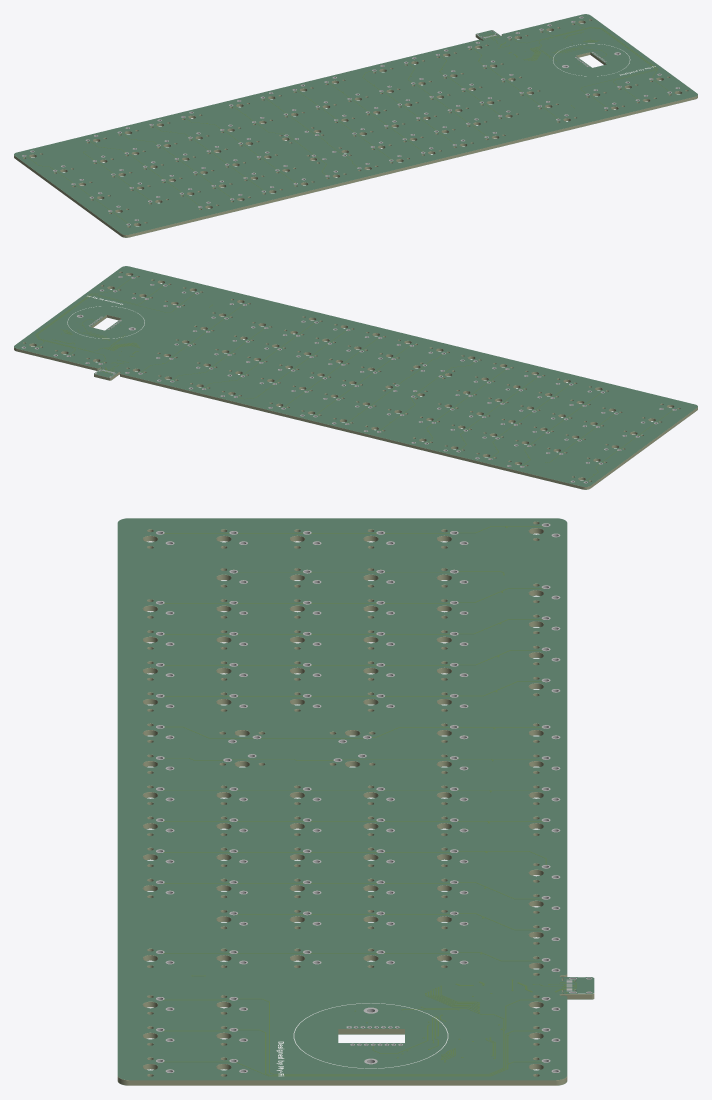
3 views of the same model, one above another, from view 1: azimuth 30°, elevation 25°; view 2: azimuth 150°, elevation 25°; view 3: azimuth 270°, elevation 25° (orthographic). The views are drawn at different scales.
Parts seen in each view (by area): view 1: =>[0:1:1:7], =>[0:1:1:9], =>[0:1:1:3]; view 2: =>[0:1:1:7], =>[0:1:1:9], =>[0:1:1:3]; view 3: =>[0:1:1:7], =>[0:1:1:9], =>[0:1:1:3].
Boxes of the visible parts, left/top/right/bottom form: =>[0:1:1:7]: left=14, top=14, right=697, bottom=234; =>[0:1:1:9]: left=14, top=15, right=697, bottom=237; =>[0:1:1:3]: left=22, top=16, right=679, bottom=225; =>[0:1:1:7]: left=14, top=266, right=697, bottom=486; =>[0:1:1:9]: left=14, top=267, right=697, bottom=489; =>[0:1:1:3]: left=21, top=276, right=676, bottom=483; =>[0:1:1:7]: left=117, top=518, right=594, bottom=1080; =>[0:1:1:9]: left=117, top=519, right=594, bottom=1085; =>[0:1:1:3]: left=156, top=523, right=592, bottom=1072.
Bounding box in the file's own units: 0.3447 × 0.00166 × 0.1236.
